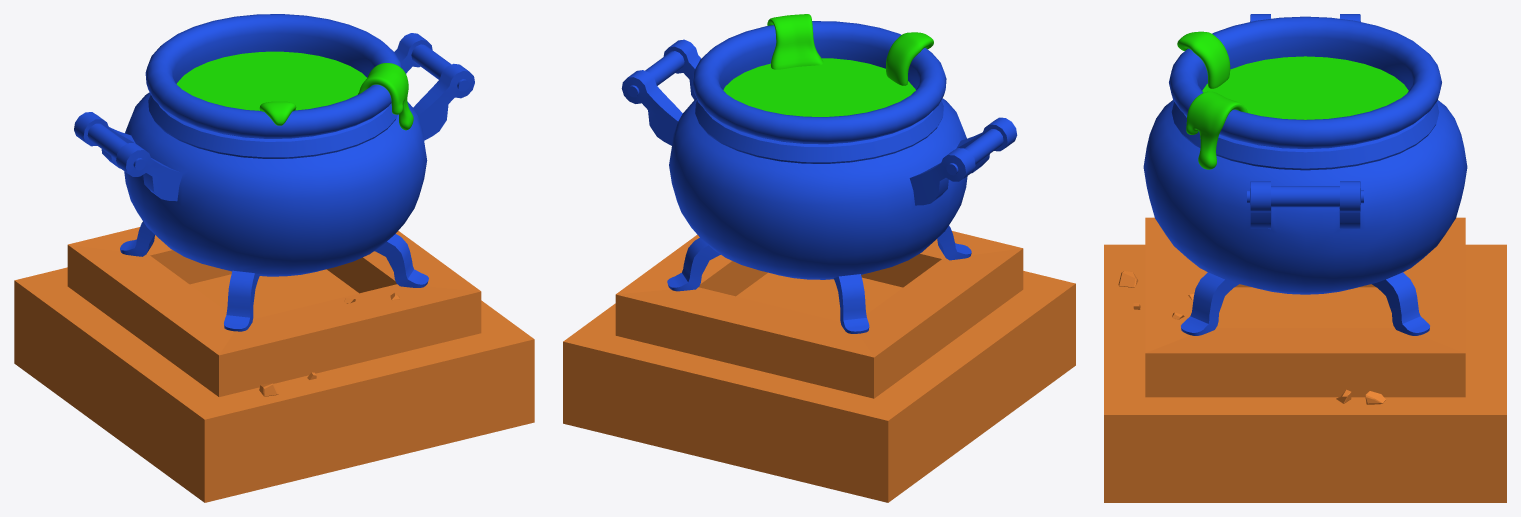
File: Cauldron.fbx
The picture shows the model from 3 angles, left to right: view 1: azimuth 30°, elevation 25°; view 2: azimuth 150°, elevation 25°; view 3: azimuth 270°, elevation 25°; orthographic projection. The views are drawn at different scales.
Parts seen in each view (by area): view 1: Cauldron_low, Base_low, Base_Rocks_low, Water_low, Goop_low, Goop_Small_low; view 2: Cauldron_low, Base_low, Base_Rocks_low, Water_low, Goop_low, Goop_Small_low; view 3: Cauldron_low, Base_low, Base_Rocks_low, Water_low, Goop_low, Goop_Small_low, Coal_Chunks_low.
Boxes of the visible parts, box(x1,y1,x2,y2) form: Cauldron_low: box(74, 14, 474, 331); Base_low: box(14, 267, 534, 502); Base_Rocks_low: box(67, 227, 481, 396); Water_low: box(176, 51, 366, 110); Goop_low: box(358, 63, 413, 130); Goop_Small_low: box(259, 101, 296, 125); Cauldron_low: box(621, 21, 1017, 333); Base_low: box(563, 271, 1075, 502); Base_Rocks_low: box(615, 231, 1023, 398); Water_low: box(723, 58, 915, 116); Goop_low: box(767, 14, 823, 69); Goop_Small_low: box(886, 32, 933, 85); Cauldron_low: box(1143, 14, 1467, 335); Base_low: box(1104, 244, 1506, 502); Base_Rocks_low: box(1145, 217, 1465, 397); Water_low: box(1202, 56, 1408, 119); Goop_low: box(1186, 91, 1247, 169); Goop_Small_low: box(1177, 31, 1230, 88); Coal_Chunks_low: box(1118, 271, 1385, 404).
Size of the model in its own units: 136 by 126 by 128.
